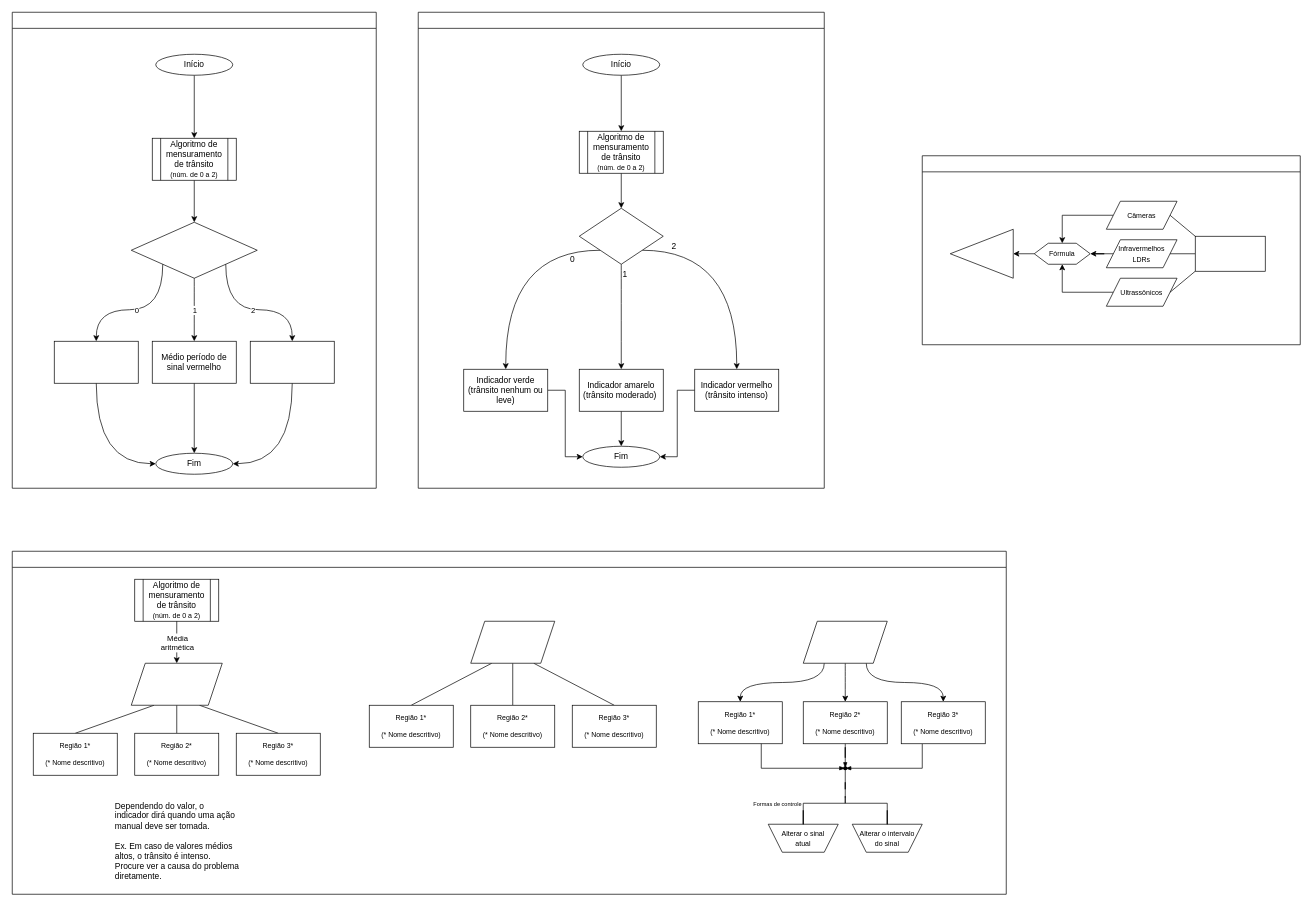
Some shapes in this 1313 by 907 pixel diagram are drawn without their labels. Here are the shapes that lost their labels. From the top down, the box of each, then its label:
(131, 222, 257, 278): Caso for igual a...
(12, 12, 376, 488): Comportamento do semáforos
(579, 208, 663, 264): Se for igual a. ..
(418, 12, 824, 488): Placa de sinalização de condição do trânsito
(950, 229, 1013, 278): Núm. de 0 a 2
(922, 155, 1300, 345): Algoritmo de mensuramento de trânsito de região N
(1195, 236, 1265, 271): Região N* (* Nome descritivo)
(54, 341, 138, 383): Alto período de sinal vermelho
(250, 341, 334, 383): Baixo período de sinal vermelho
(470, 621, 555, 663): Imagens em tempo real das câmeras
(803, 621, 887, 663): Controle de semáforos
(131, 663, 222, 705): Indicador de média de trafego (Gráfico em tempo real)
(12, 551, 1006, 894): Interface de monitoramento
